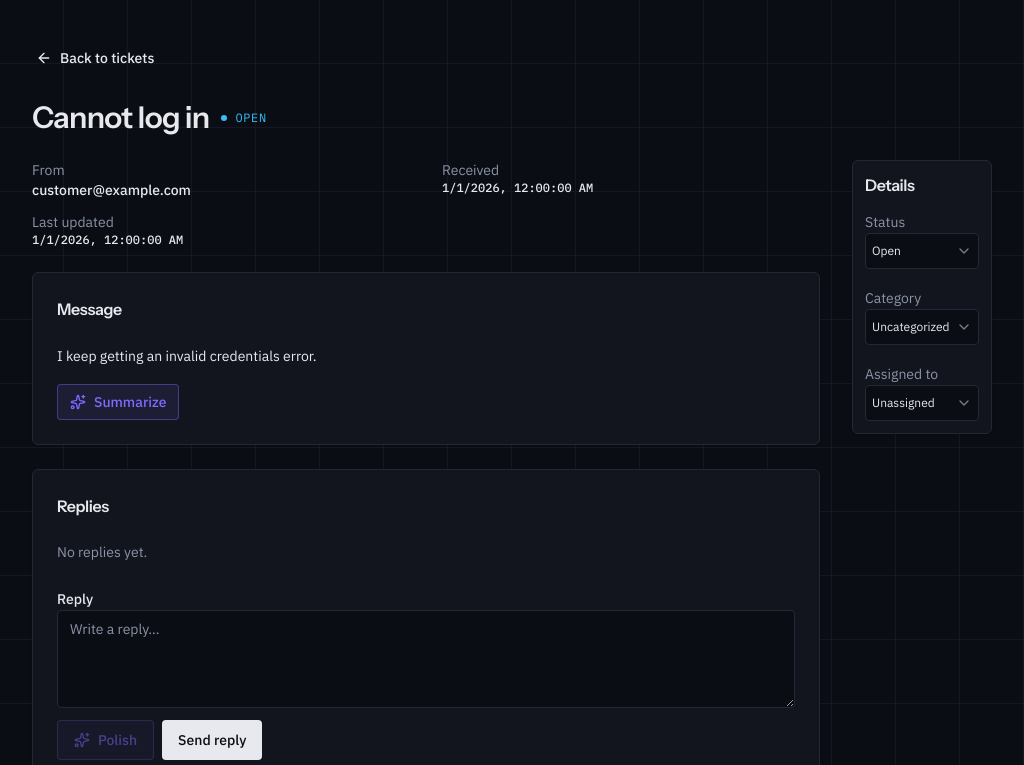
Test: TicketDetailPage - reply submission › appends the new reply to the thread and clears the textarea on success
Check: the heading "Cannot log in" is shown, box [32, 100, 210, 136]
Check: the text "No replies yet." is shown, box [57, 543, 147, 561]
Type "On it, will follow up shortly." into the text box labelled "Reply".
click(426, 659); type("On it, will follow up shortly.")  # box [57, 610, 795, 708]
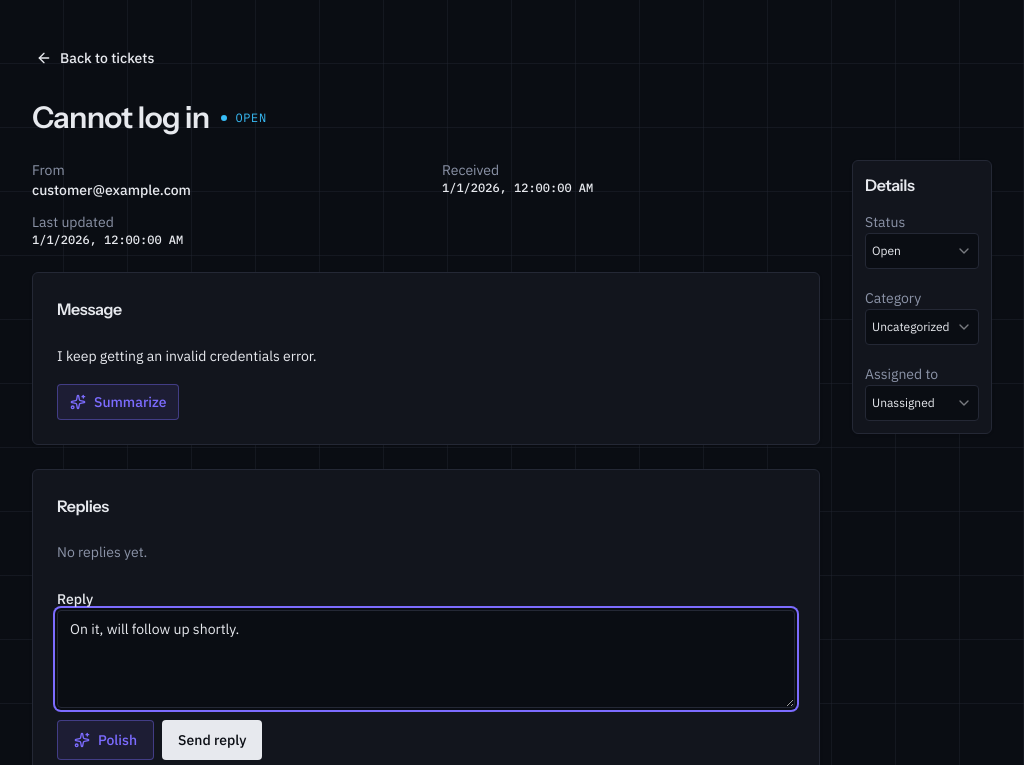
Click the button "Send reply".
click(212, 740)  # box [162, 720, 262, 760]
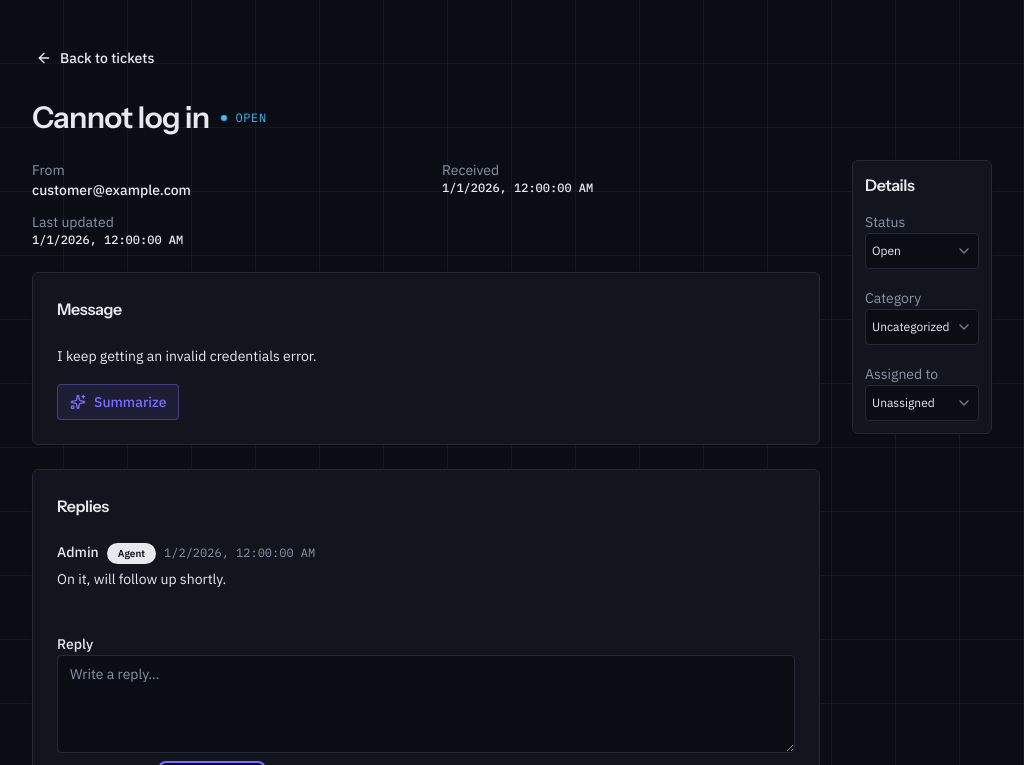
Check: the text "On it, will follow up shortly." is shown, box [57, 570, 226, 588]
Check: the text "No replies yet." is gone
Check: the text box labelled "Reply" is empty, box [57, 654, 795, 752]
